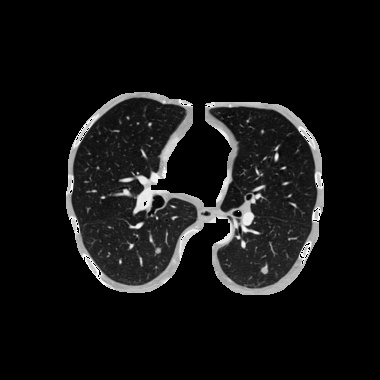PN: (260, 266, 268, 274)
